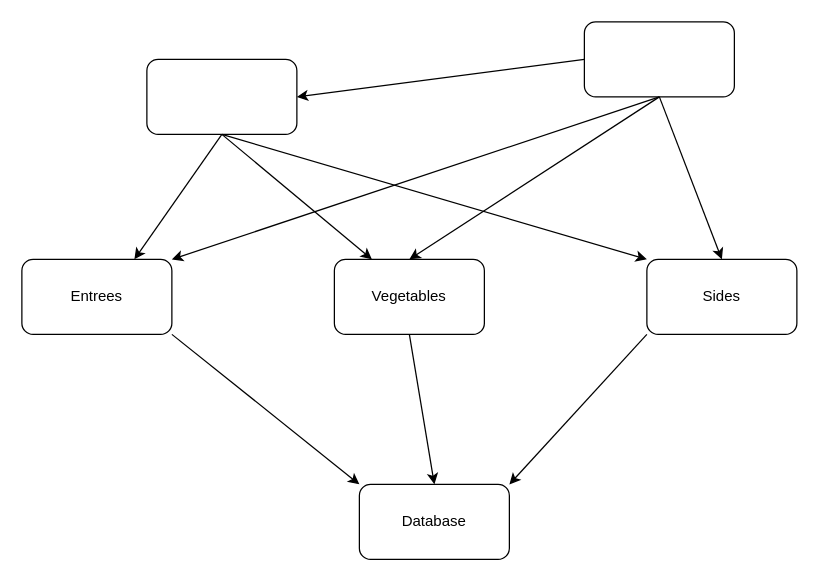
The diagram is 819 pixels wide and 581 high, and some of its shapes have lost their labels. The centre of each missing label's shape, as x and y in pixels:
"Main" goes at point (658, 59).
"Purchases" goes at point (221, 96).
